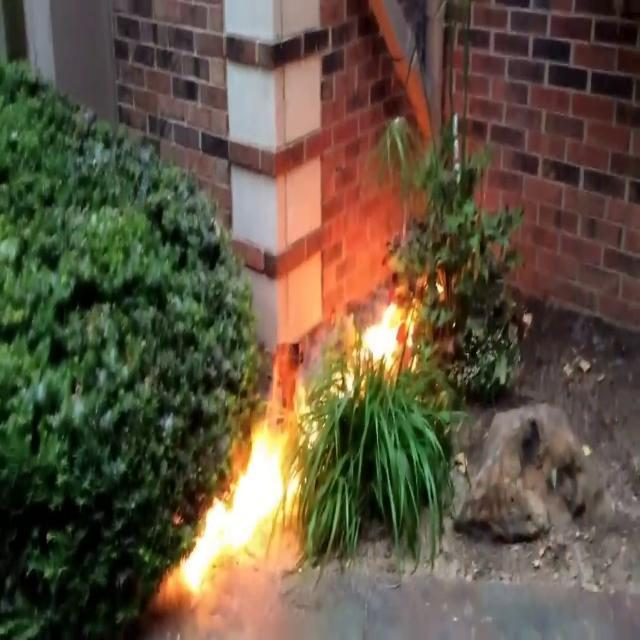Fire: (170, 348, 318, 601), (344, 277, 430, 398)
